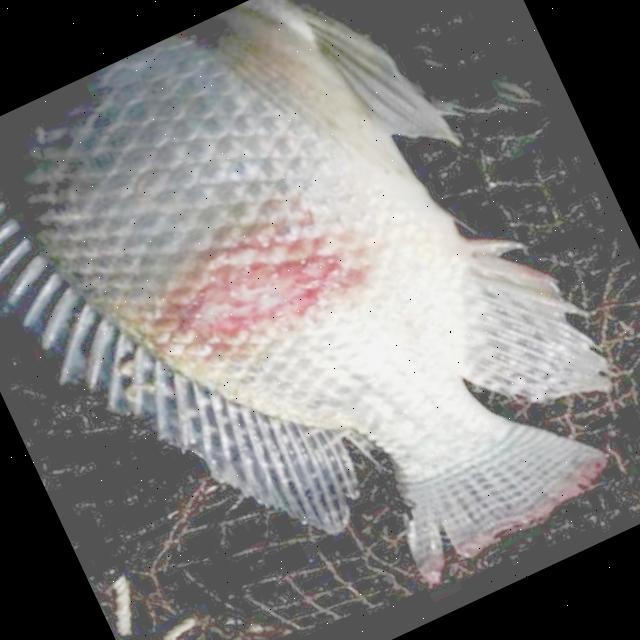Tilapia Lake Virus -TiLV-: (0, 0, 613, 583)
